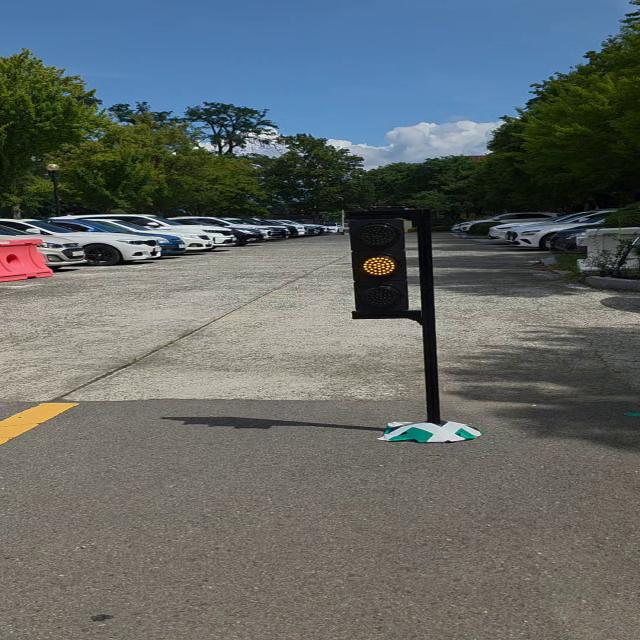yellow: (344, 210, 416, 317)
